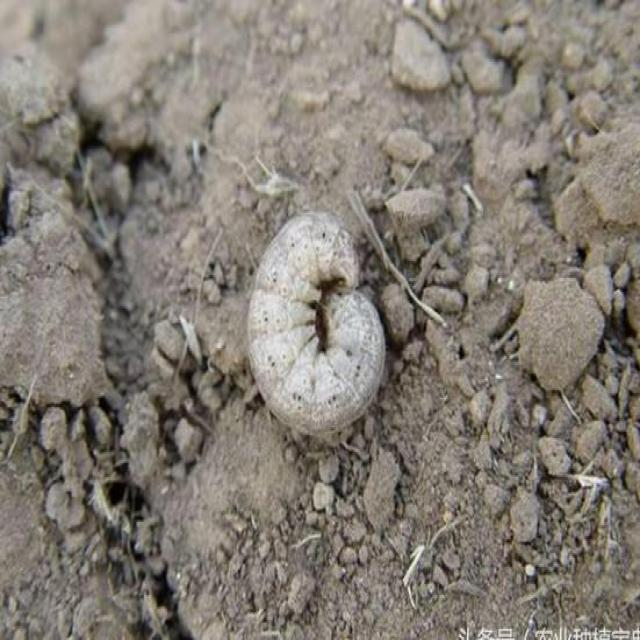BeetArmyWorm-Larva-: (240, 201, 386, 438)
